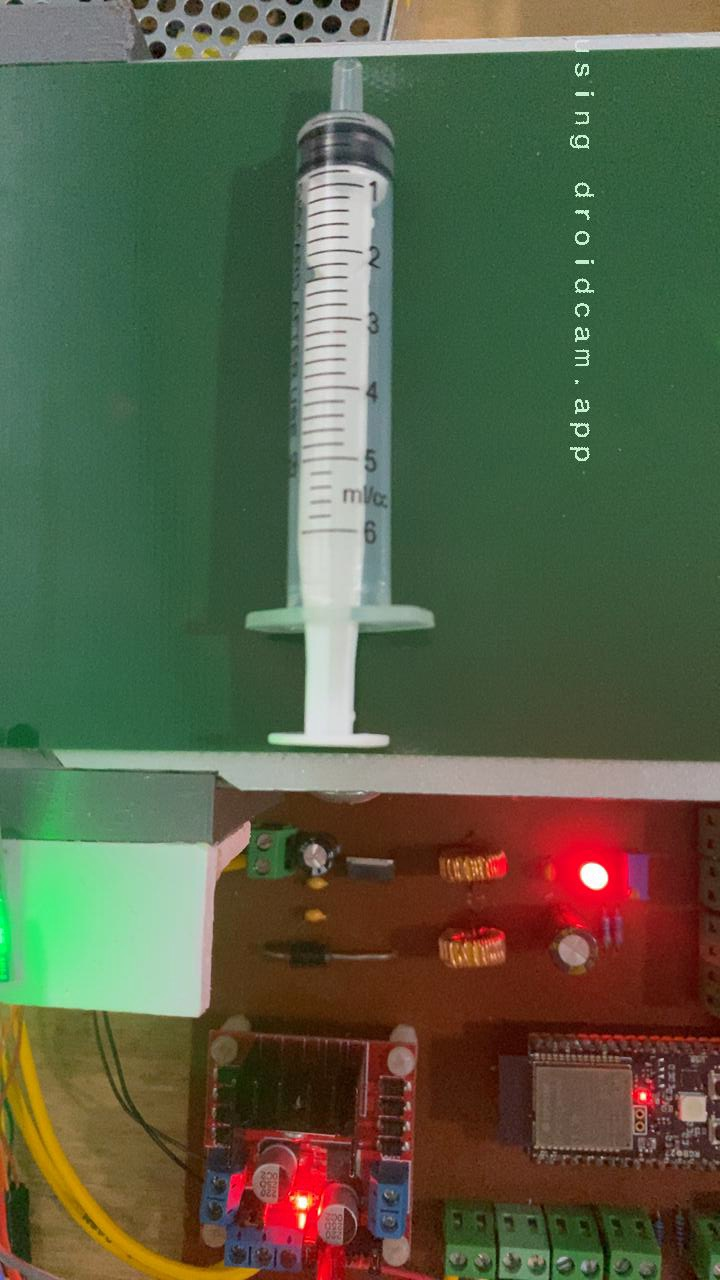syringe: (0, 54, 425, 753)
